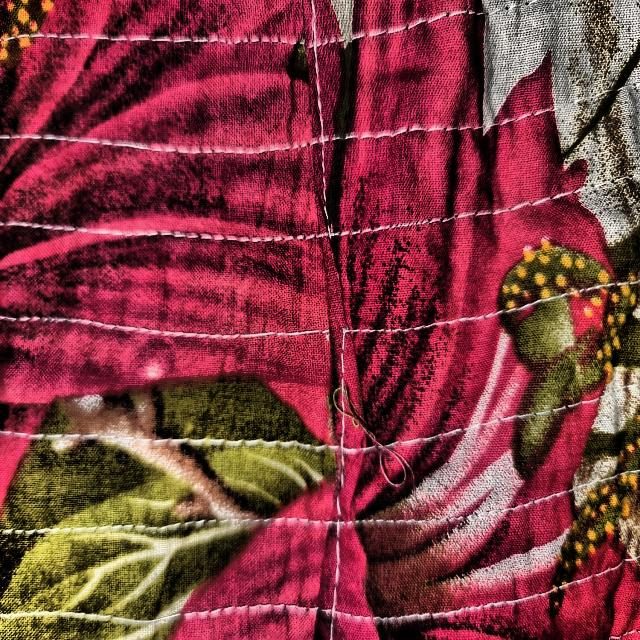Stitch: (327, 361, 431, 515)
